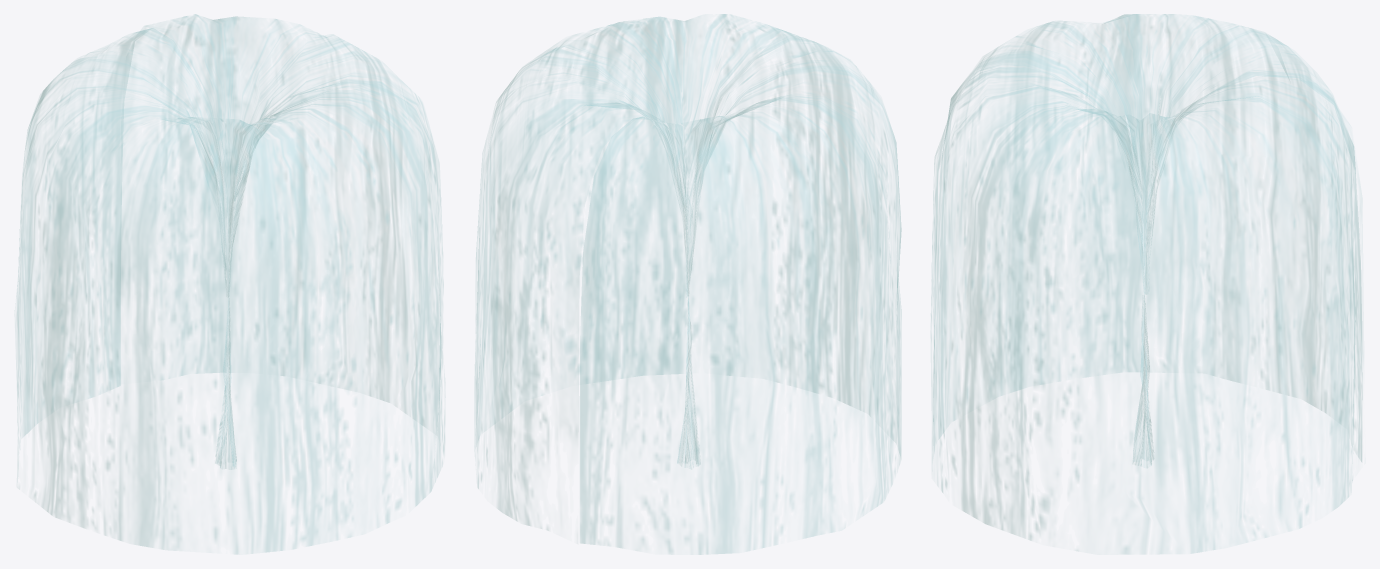
File: mdl_wollo_water_plume.gltf
The picture shows the model from 3 angles, left to right: view 1: azimuth 30°, elevation 25°; view 2: azimuth 150°, elevation 25°; view 3: azimuth 270°, elevation 25°; orthographic projection.
Parts seen in each view (by area): view 1: fShape; view 2: fShape; view 3: fShape.
Part boxes in pixels (x1,y1,x2,y2): fShape: (15, 14, 445, 554); fShape: (474, 14, 901, 554); fShape: (931, 14, 1363, 554).
Bounding box in the file's own units: 0.3733 × 0.3774 × 0.3744.
Materials: 1 (1 with a texture image).
